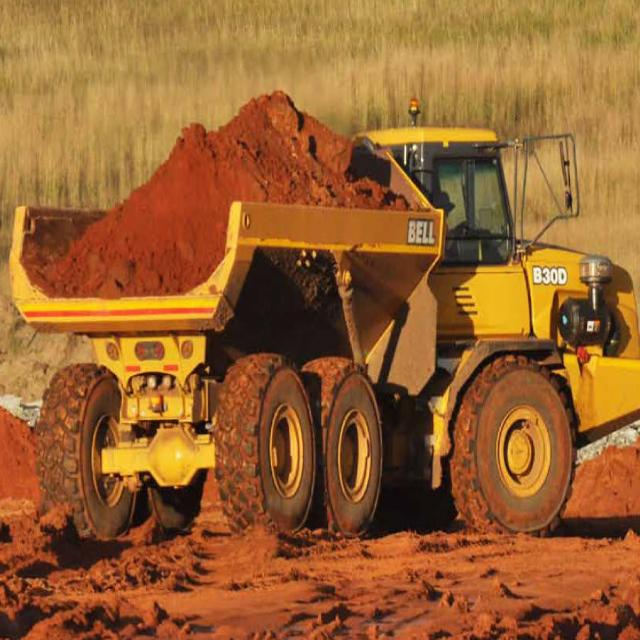dump_truck: (10, 62, 639, 558)
